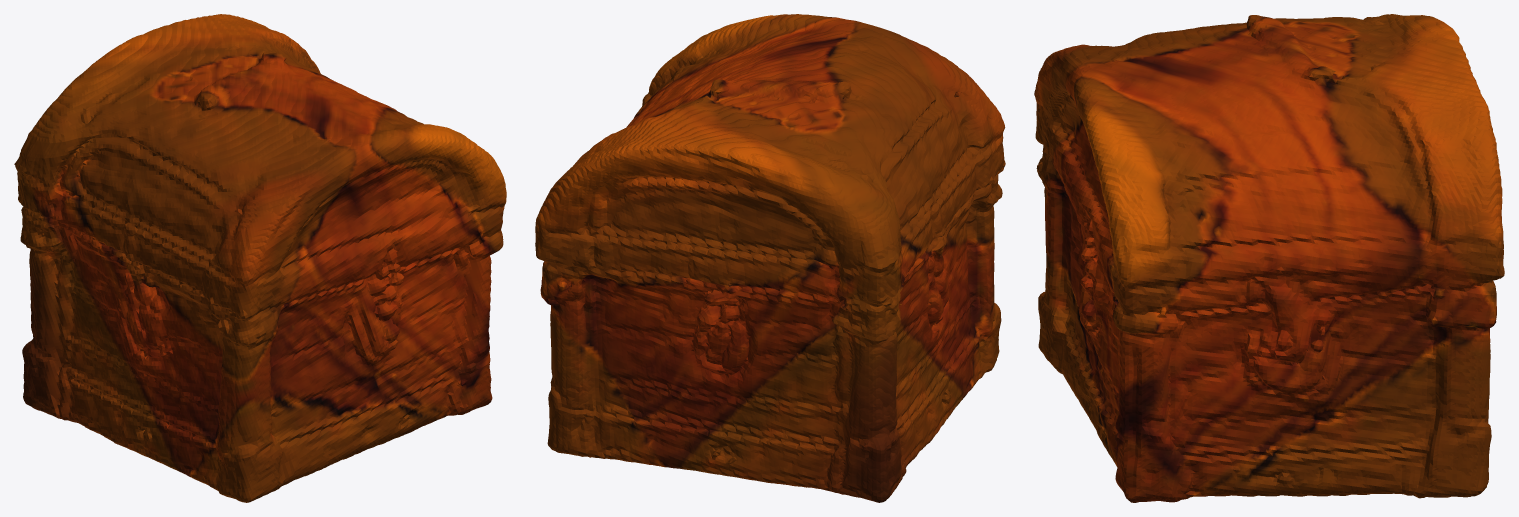
Rendered from chestbox.fbx.
3 views of the same model, side by side, from view 1: azimuth 30°, elevation 25°; view 2: azimuth 150°, elevation 25°; view 3: azimuth 270°, elevation 25° (orthographic). The views are drawn at different scales.
Parts seen in each view (by area): view 1: mesh; view 2: mesh; view 3: mesh.
Boxes of the visible parts, x1=… form: mesh: x1=14, y1=14, x2=506, y2=502; mesh: x1=535, y1=14, x2=1005, y2=502; mesh: x1=1034, y1=14, x2=1504, y2=502.
Size of the model in its own units: 86.46 by 76.95 by 86.43.
